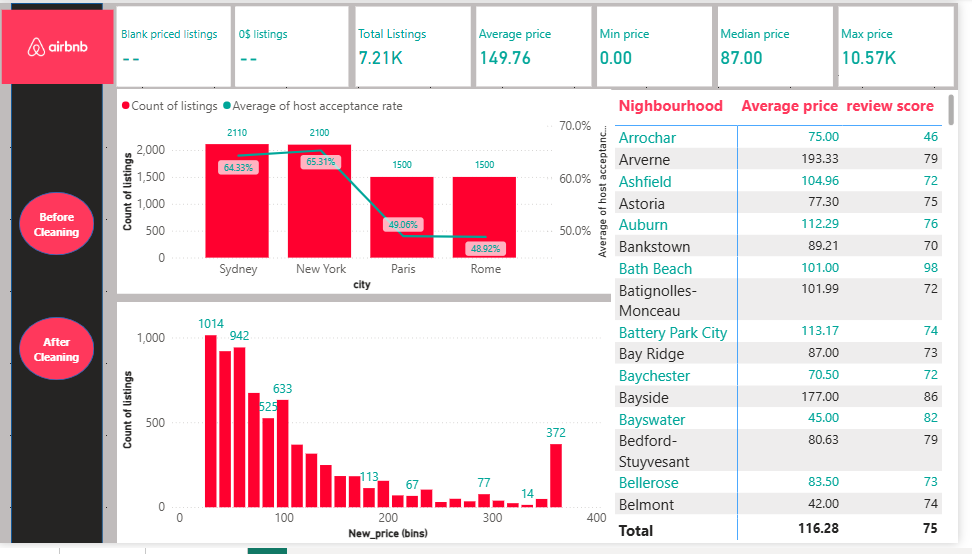

What the dashboard file says about the page in this screenshot:
{"tool":"powerbi","page":{"name":"missing","canvas":[1280,720],"ordinal":0},"visuals":[{"type":"lineStackedColumnComboChart","fields":{"Category":["airbnb.city"],"Y":["Count(airbnb.listing_id)"],"Y2":["Avg(airbnb.host_acceptance_rate)"]},"box":[158.3,114.5,658.5,272.8],"z":1000},{"type":"shape","box":[17.5,0,122.2,721.5],"z":2000},{"type":"shape","box":[27.6,418.9,100.4,84.4],"z":3000},{"type":"image","box":[0,0,158.5,116.4],"z":4000},{"type":"clusteredColumnChart","title":"price histo on updated","fields":{"Category":["airbnb.updated_price (bins)"],"Y":["Count(airbnb.listing_id)"]},"box":[158.3,399.2,658.5,321.7],"z":5000},{"type":"shape","box":[27.6,251.6,100.4,84.4],"z":6000},{"type":"cardVisual","fields":{"Data":["_measures.Total Listings","Avg(airbnb.price)","Min(airbnb.price)","Median(airbnb.price)","Max(airbnb.price)"]},"box":[471.6,0,808.4,116.2],"z":7000},{"type":"cardVisual","title":"price before","fields":{"Data":["_measures.Blank priced listings","_measures.0$ listings"]},"box":[153.3,0,318.3,116.2],"z":8000},{"type":"pivotTable","fields":{"Rows":["airbnb.neighbourhood"],"Values":["Avg(airbnb.New_price)","Avg(airbnb.review_scores_rating)"]},"box":[816.8,116.2,463.2,604.6],"z":10000}]}

Visuals, with their boxes in screenshot pixels (x1, y1, x2, y2), scaled from the page's 1280x720 canvas onto the 972x554 screenshot:
lineStackedColumnComboChart - airbnb.city x Count(airbnb.listing_id): x1=120 y1=88 x2=620 y2=298
shape: x1=13 y1=0 x2=106 y2=553
shape: x1=21 y1=322 x2=97 y2=387
image: x1=0 y1=0 x2=120 y2=90
"price histo on updated" clusteredColumnChart: x1=120 y1=307 x2=620 y2=553
shape: x1=21 y1=194 x2=97 y2=259
cardVisual - _measures.Total Listings x Avg(airbnb.price): x1=358 y1=0 x2=971 y2=89
"price before" cardVisual: x1=116 y1=0 x2=358 y2=89
pivotTable - airbnb.neighbourhood x Avg(airbnb.New_price): x1=620 y1=89 x2=971 y2=553
